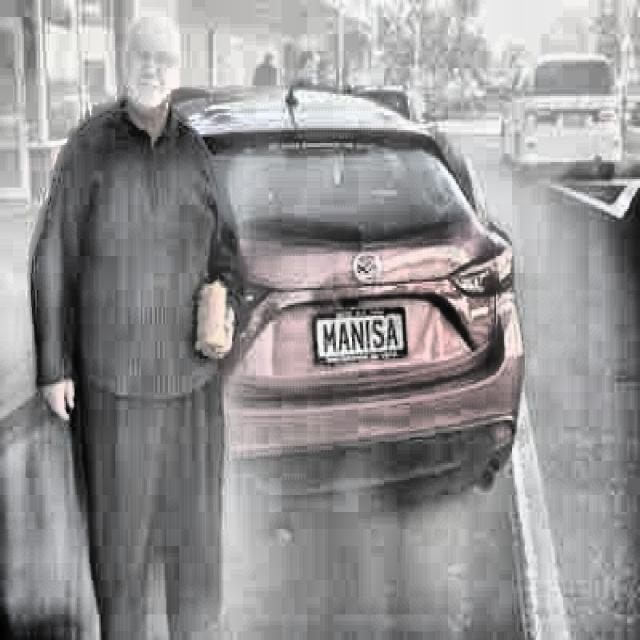license_plate: (314, 312, 406, 364)
